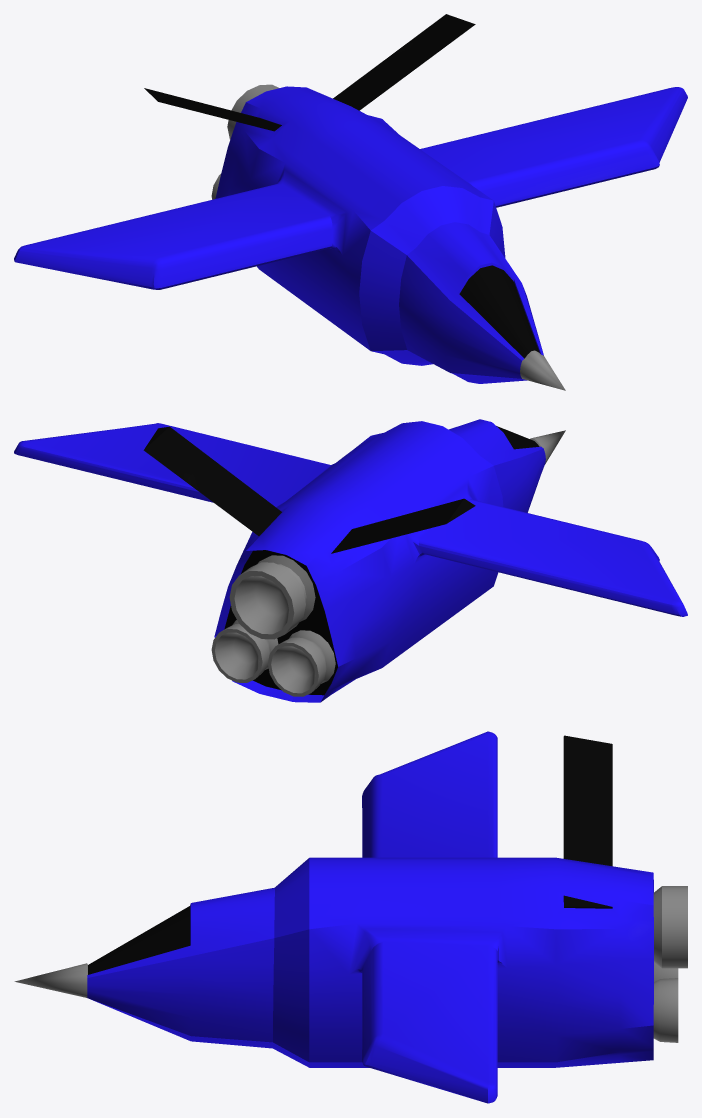
Rendered from PlayerShip.dae.
The picture shows the model from 3 angles, top to bottom: view 1: azimuth 30°, elevation 25°; view 2: azimuth 150°, elevation 25°; view 3: azimuth 270°, elevation 25°; orthographic projection. The views are drawn at different scales.
Visible parts, largest first — view 1: Cylinder; view 2: Cylinder; view 3: Cylinder.
Part boxes in pixels (bbox=[...]): Cylinder: bbox=[14, 14, 687, 390]; Cylinder: bbox=[14, 419, 687, 702]; Cylinder: bbox=[14, 731, 687, 1103].
Bounding box in the file's own units: 4.01 × 3.15 × 1.25.
Materials: 1 (1 with a texture image).
